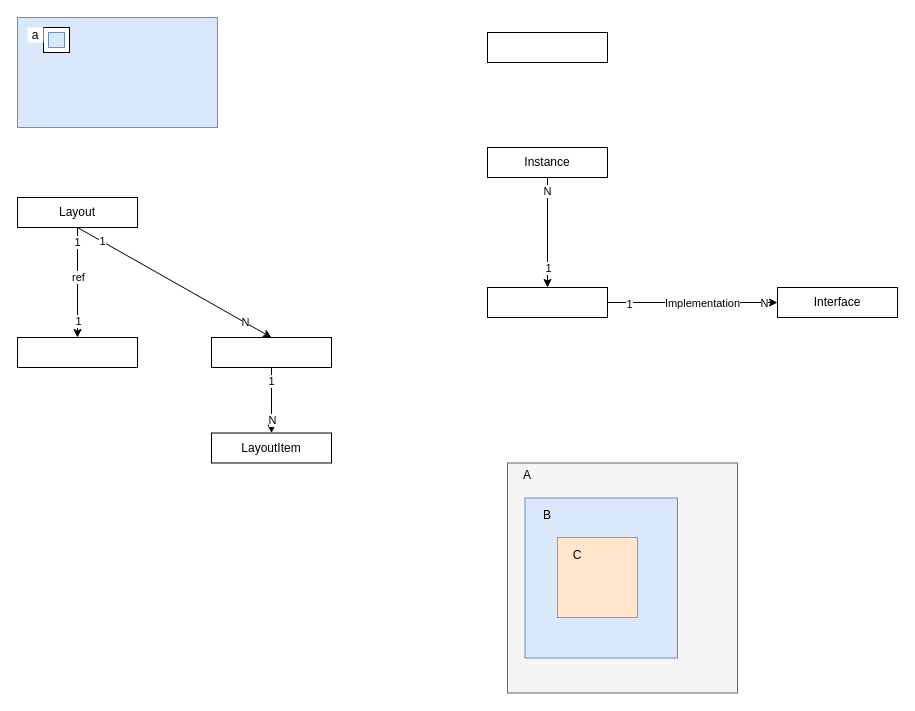
The diagram is 915 pixels wide and 711 high, and some of its shapes have lost their labels. The centre of each missing label's shape, as x and y in pixels:
Class: (547,302)
LayoutContext(Style): (77,352)
LayoutLine: (271,352)
TypeNode: (547,47)
